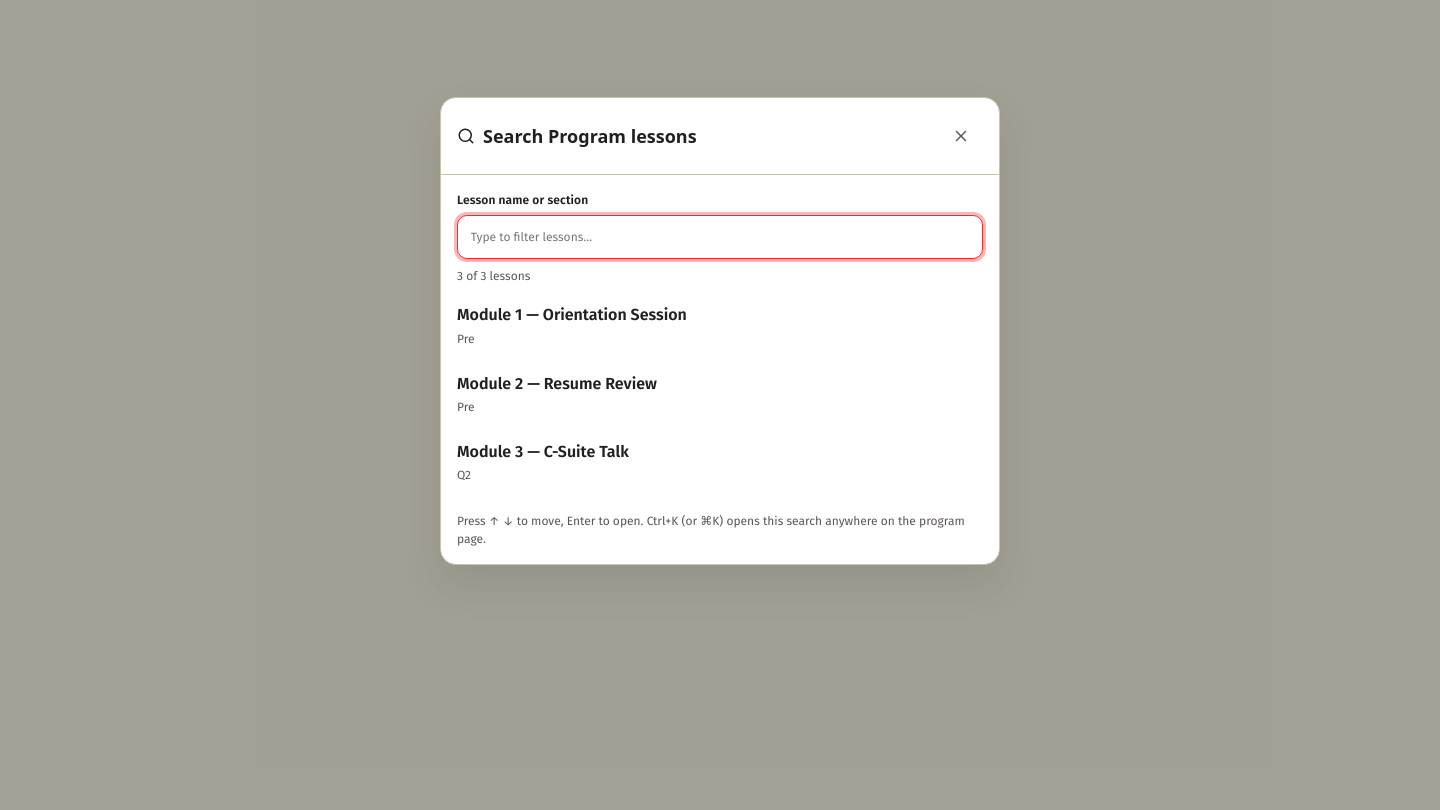
LessonSearchDialog › reports no matches for a query nothing satisfies
Type "zzzzz" into the search field labelled "Lesson name or section" at point(720, 237), box [457,215,983,259]
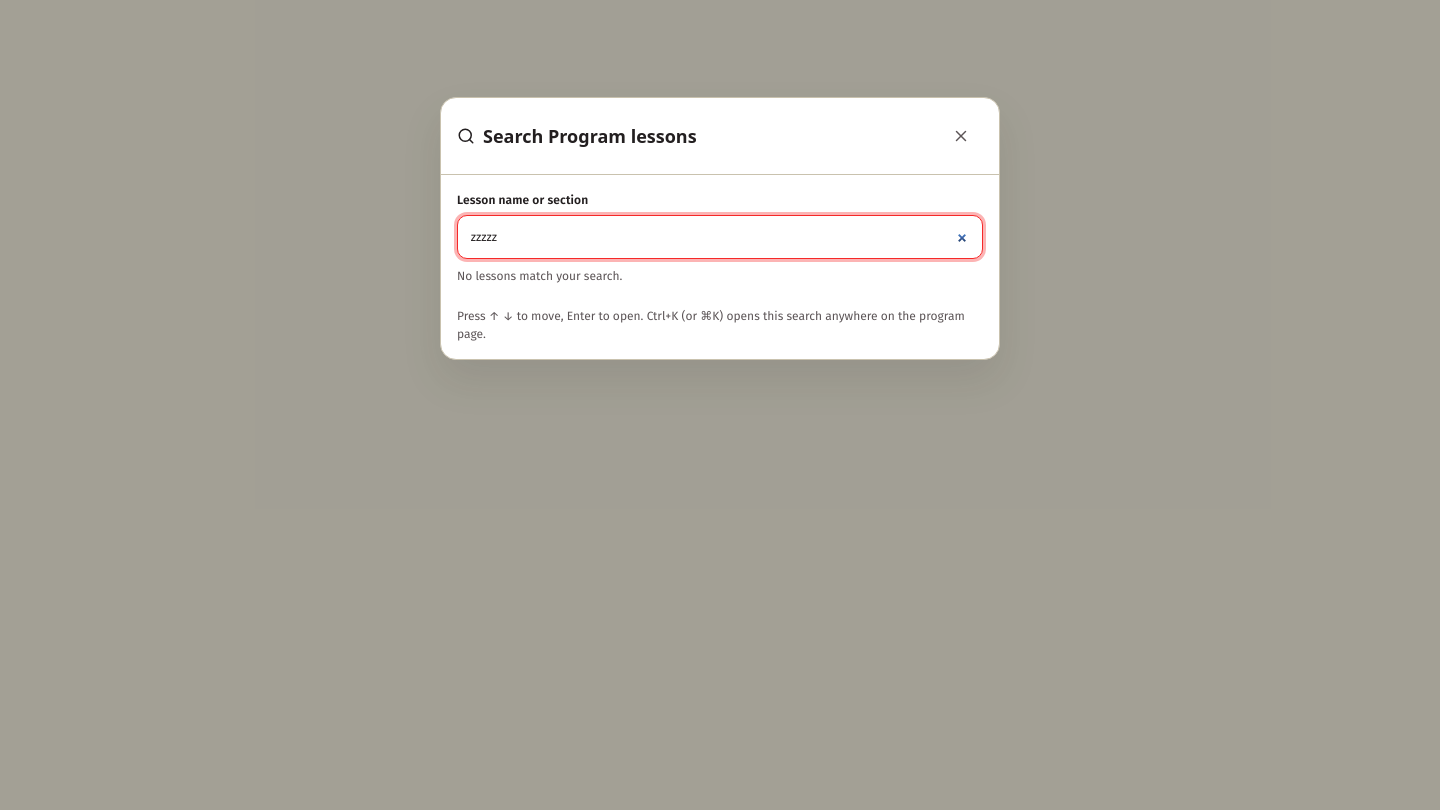
Expected: no buttons "Module 1 — Orientation Session" are shown
